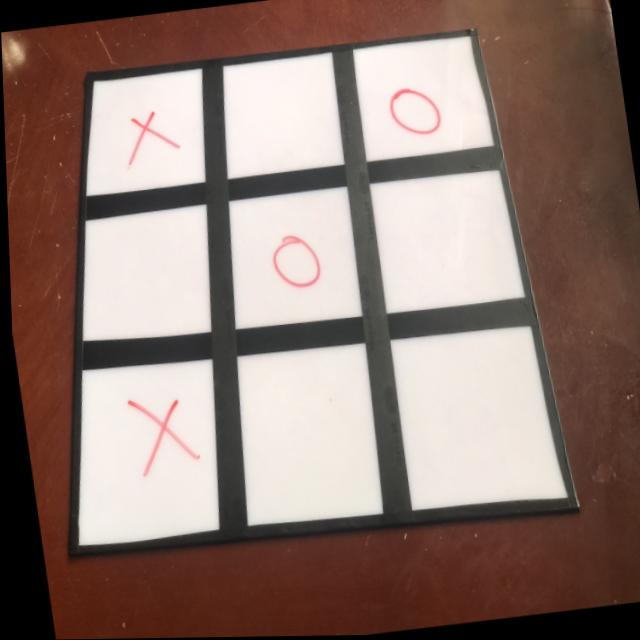null: (386, 324, 562, 510), (226, 341, 379, 526), (367, 169, 522, 314), (70, 204, 214, 342), (212, 51, 343, 179)
o: (263, 228, 322, 295), (385, 84, 444, 144)
table: (15, 25, 574, 558)
x: (122, 393, 196, 479), (117, 103, 185, 173)
